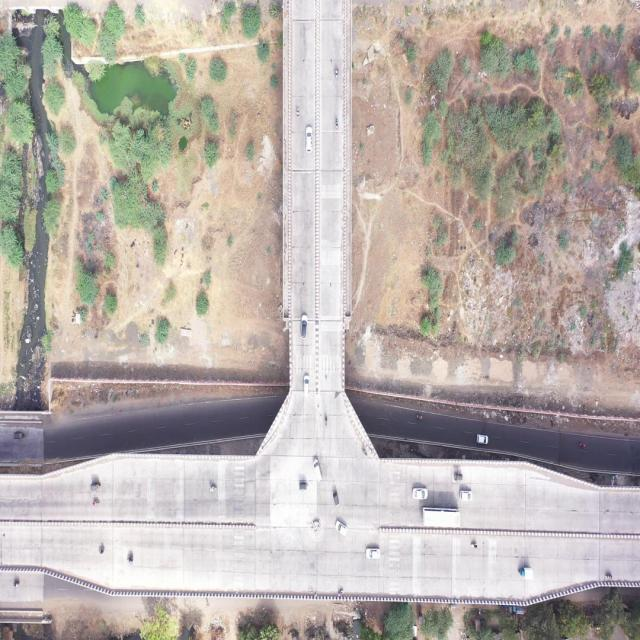3W: (296, 476, 312, 496), (329, 488, 343, 510), (12, 428, 26, 442), (453, 470, 466, 484), (90, 478, 102, 493)
Bus: (420, 505, 461, 530)
Cars: (334, 516, 350, 540), (300, 373, 312, 401), (312, 456, 324, 484), (304, 124, 314, 156), (364, 546, 382, 562), (411, 485, 429, 501), (300, 312, 309, 341), (458, 488, 475, 503), (475, 431, 489, 446)
LCV: (516, 565, 536, 581)
M2W: (125, 553, 136, 566), (12, 576, 22, 590), (97, 545, 106, 558), (604, 570, 613, 582), (295, 104, 301, 121), (90, 497, 100, 507), (208, 484, 218, 494), (323, 412, 329, 428), (361, 446, 368, 459), (469, 541, 478, 551), (578, 441, 588, 450), (416, 411, 424, 422), (335, 117, 339, 134)
